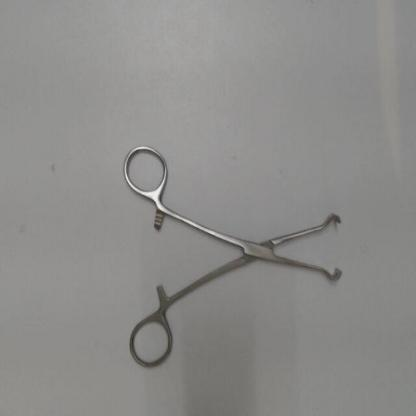Babcock Tissue Forceps: (122, 135, 347, 370)
